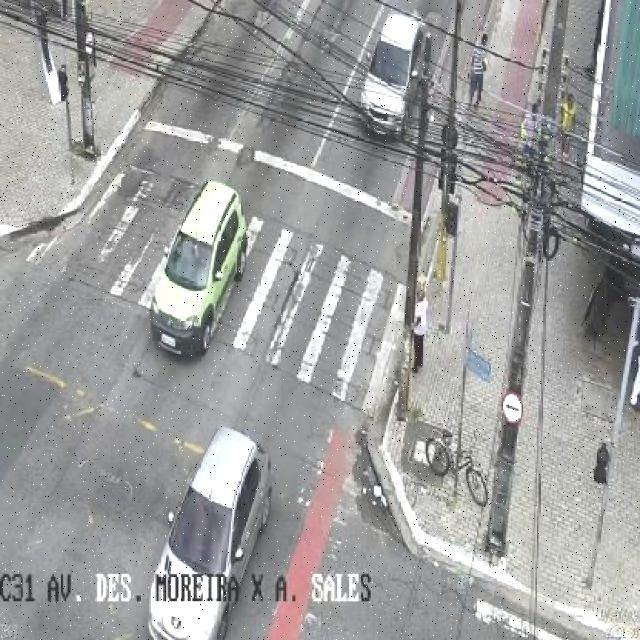Car: (148, 425, 276, 639), (151, 181, 247, 362), (361, 14, 432, 142)
Cycle: (423, 423, 490, 508)
